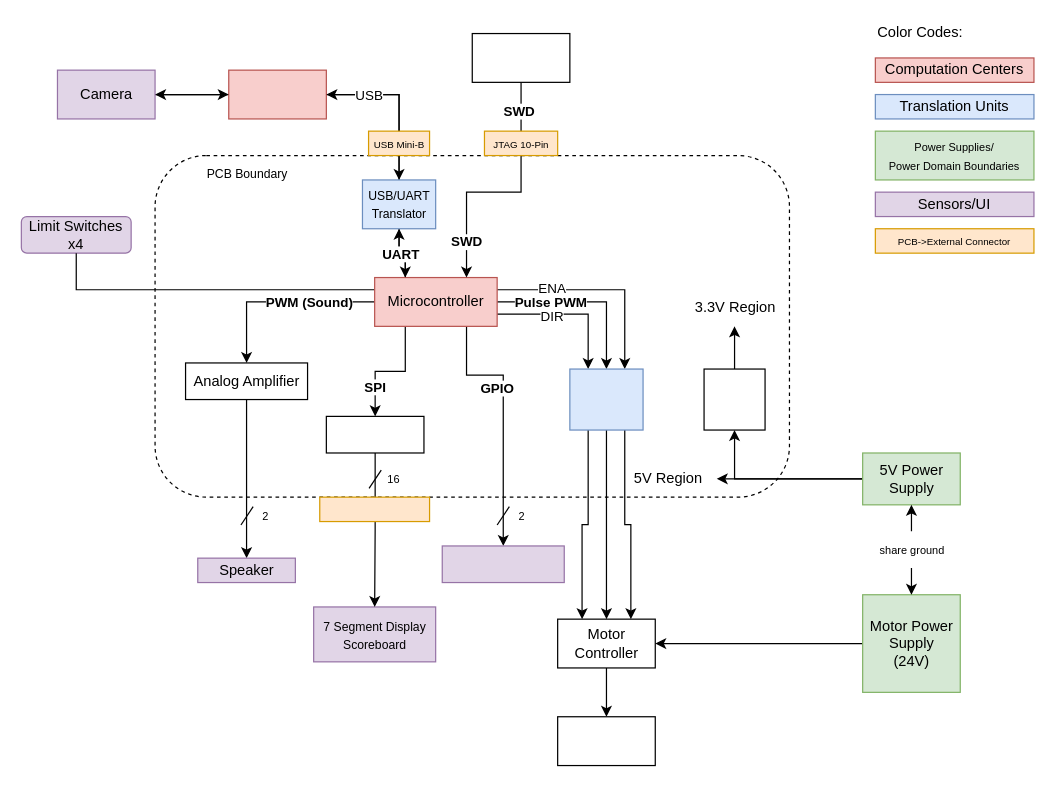
The diagram is 1055 pixels wide and 787 high, and some of its shapes have lost their labels. Here are the shapes that lost their labels. From the top down, the box of each, then its label:
(471, 32, 570, 82): STLink
(228, 69, 326, 119): PowerPC
(569, 368, 643, 430): 3.3V to 5V Level Translator IC
(703, 368, 765, 430): LDO (5V-->3.3V)
(325, 415, 424, 453): Shift Registers
(319, 496, 430, 522): 8-Pin Connector (x2)
(441, 545, 564, 583): Score Detection Sensors (x2)
(556, 716, 655, 766): Stepper Motor (x2)
